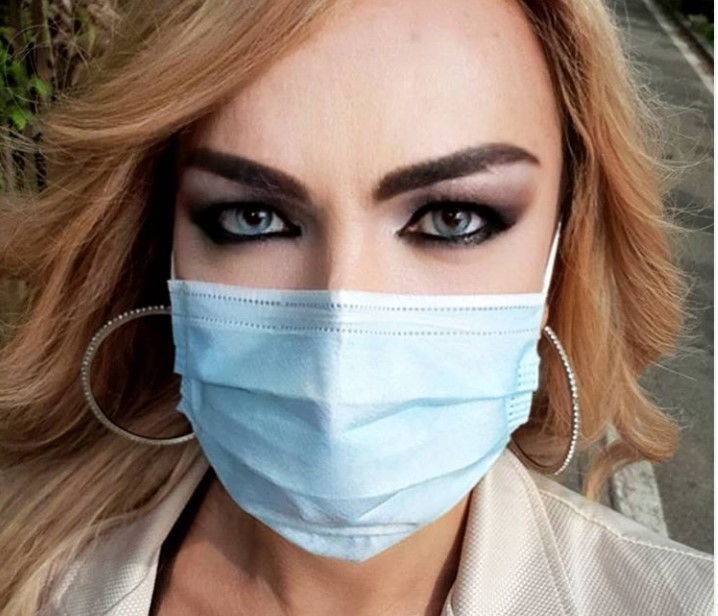face_with_mask: (163, 5, 577, 563)
